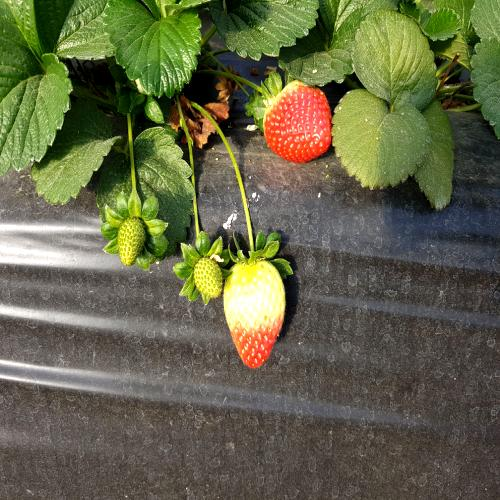partially-ripe: (220, 254, 287, 370), (262, 73, 333, 168)
